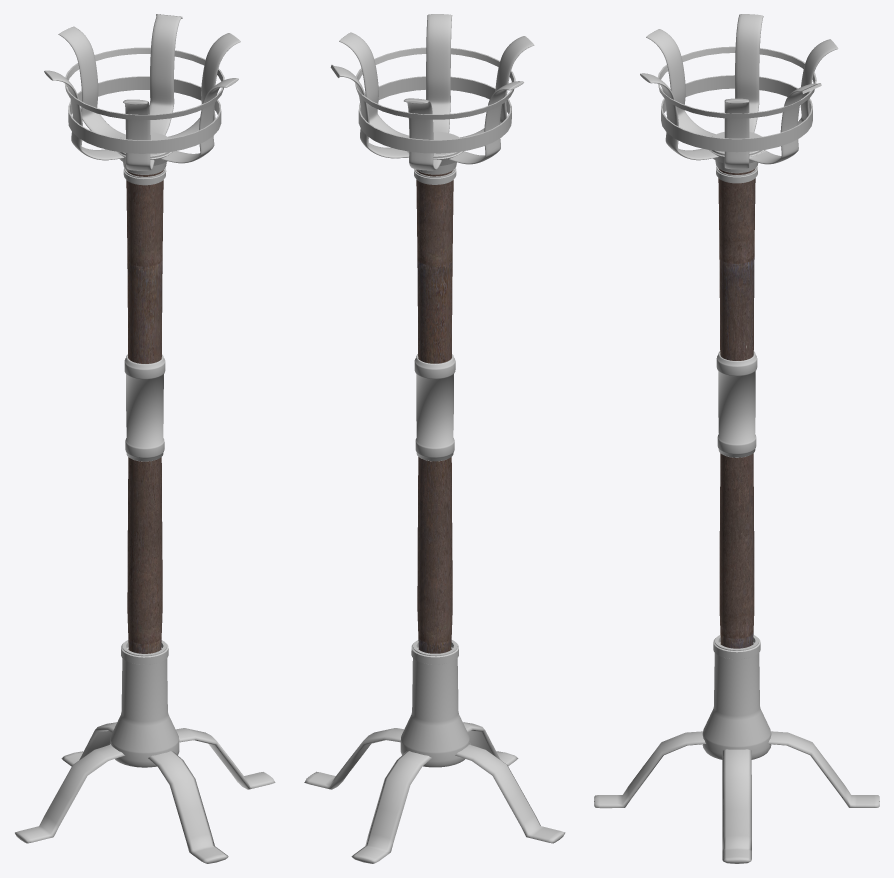
File: Torch_Witchery.fbx
3 renders of one model, left to right at view 1: azimuth 30°, elevation 25°; view 2: azimuth 150°, elevation 25°; view 3: azimuth 270°, elevation 25°, orthographic.
Parts seen in each view (by area): view 1: Skaft, Crown, Legs, Legs_Attachment, Detail2, Crown_Thing, Crown_Thing2, Crown_Attachment; view 2: Skaft, Crown, Legs, Legs_Attachment, Detail2, Crown_Thing, Crown_Thing2, Crown_Attachment; view 3: Skaft, Crown, Legs, Legs_Attachment, Detail2, Crown_Thing, Crown_Thing2, Crown_Attachment.
Boxes of the visible parts, x1=… form: Skaft: x1=126, y1=170, x2=163, y2=653; Crown: x1=44, y1=14, x2=240, y2=170; Legs: x1=15, y1=722, x2=275, y2=863; Legs_Attachment: x1=110, y1=640, x2=179, y2=767; Detail2: x1=124, y1=354, x2=165, y2=461; Crown_Thing: x1=68, y1=76, x2=221, y2=153; Crown_Thing2: x1=64, y1=47, x2=224, y2=120; Crown_Attachment: x1=117, y1=132, x2=172, y2=174; Skaft: x1=416, y1=170, x2=453, y2=653; Crown: x1=330, y1=14, x2=534, y2=170; Legs: x1=304, y1=722, x2=565, y2=863; Legs_Attachment: x1=400, y1=640, x2=469, y2=767; Detail2: x1=414, y1=354, x2=455, y2=461; Crown_Thing: x1=358, y1=76, x2=511, y2=153; Crown_Thing2: x1=355, y1=47, x2=515, y2=119; Crown_Attachment: x1=407, y1=131, x2=463, y2=174; Skaft: x1=718, y1=168, x2=755, y2=648; Crown: x1=640, y1=14, x2=838, y2=169; Legs: x1=594, y1=731, x2=879, y2=863; Legs_Attachment: x1=702, y1=635, x2=771, y2=759; Detail2: x1=716, y1=351, x2=757, y2=457; Crown_Thing: x1=661, y1=75, x2=812, y2=152; Crown_Thing2: x1=657, y1=46, x2=816, y2=118; Crown_Attachment: x1=709, y1=132, x2=764, y2=173.
Size of the model in its own units: 152 by 438 by 152.
